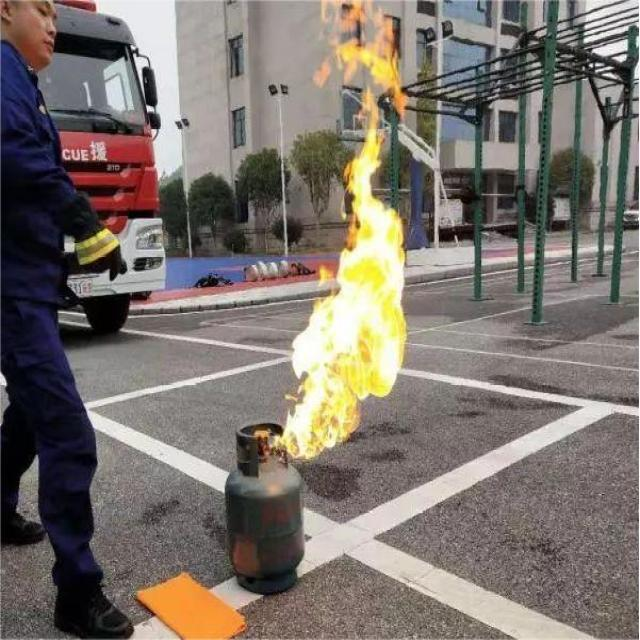Fire: (277, 125, 409, 456), (314, 0, 406, 120)
